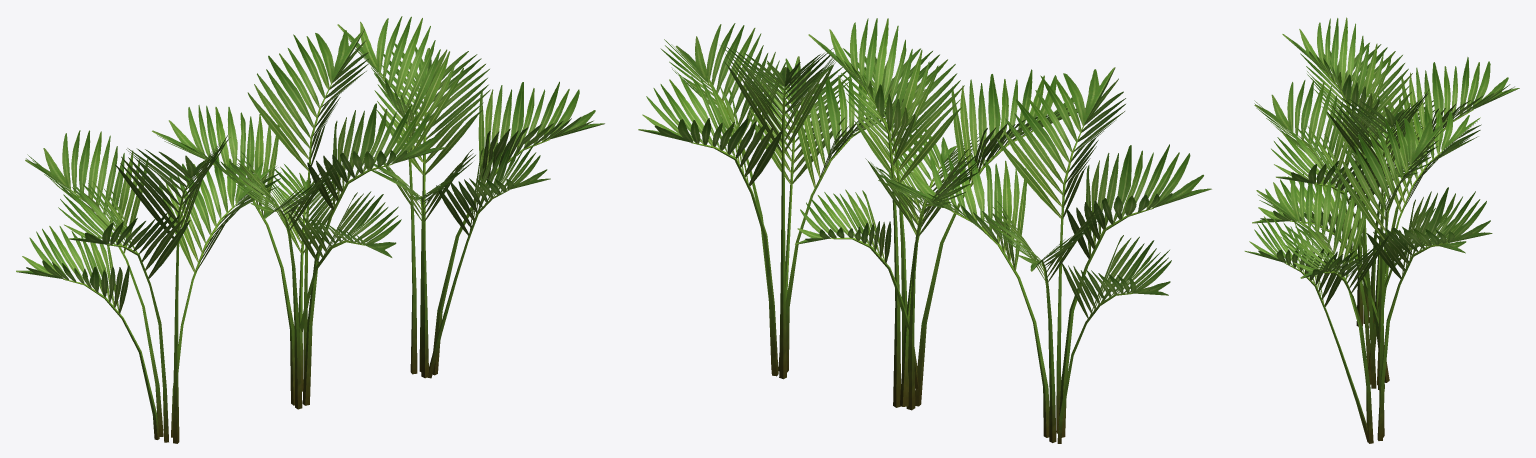
The model's file is D_Plant_009_a.fbx.
3 views of the same model, side by side, from view 1: azimuth 30°, elevation 25°; view 2: azimuth 150°, elevation 25°; view 3: azimuth 270°, elevation 25° (orthographic). The views are drawn at different scales.
Visible parts, largest first — view 1: D_Plant_009_a; view 2: D_Plant_009_a; view 3: D_Plant_009_a.
Part boxes in pixels (x1=…): D_Plant_009_a: x1=16, y1=16, x2=604, y2=443; D_Plant_009_a: x1=638, y1=18, x2=1211, y2=443; D_Plant_009_a: x1=1244, y1=17, x2=1519, y2=443.
Size of the model in its own units: 1.92 by 1.2 by 0.9642.
1 material, 1 textured.
